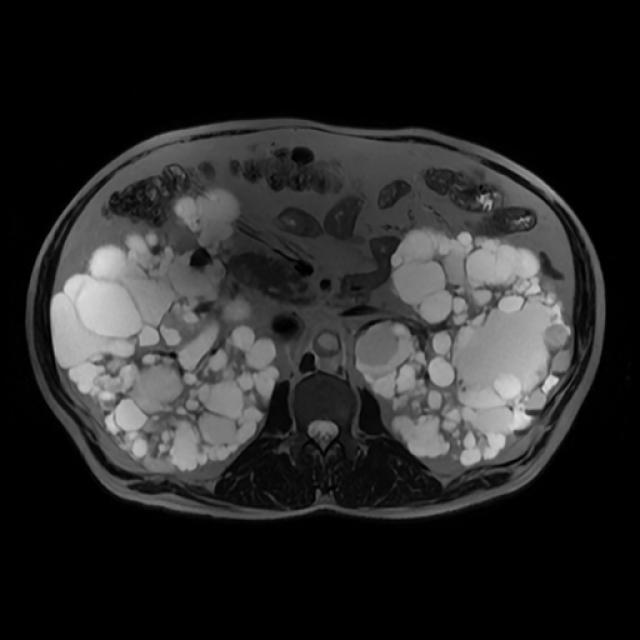sag: (53, 191, 276, 475)
sol: (358, 227, 570, 463)
